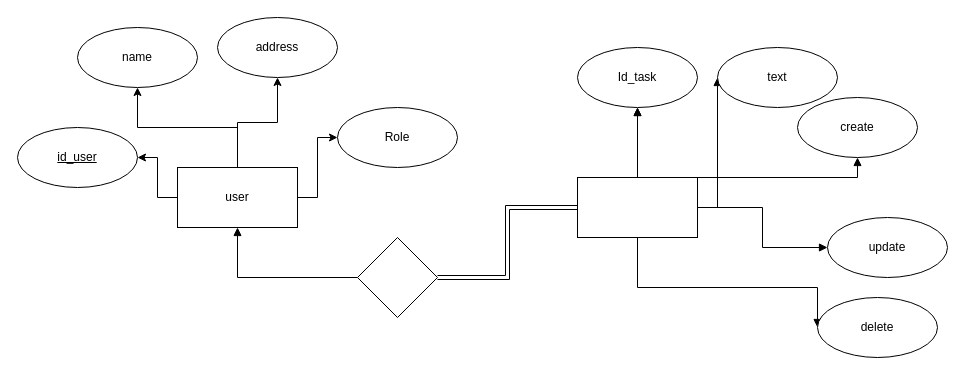
Some shapes in this 965 by 375 pixel diagram are drawn without their labels. Each missing label, with the centre of its shape:
"have" goes at pixel 397 277.
"task" goes at pixel 637 207.
